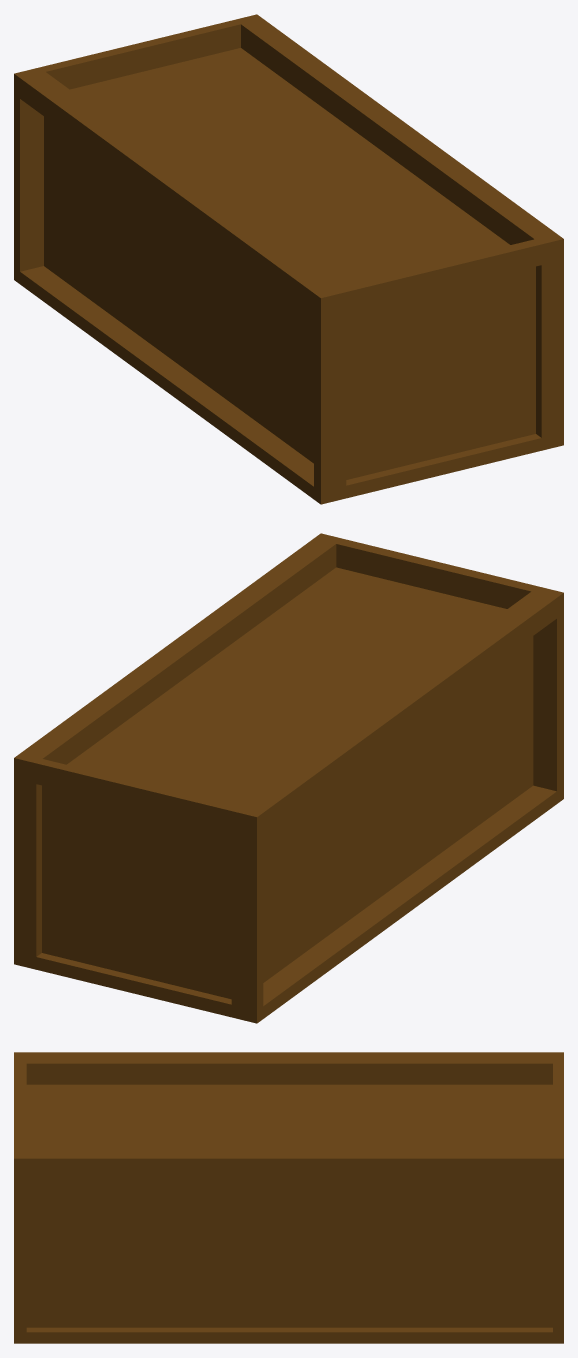
File: Caja3.FBX
3 renders of one model, top to bottom at view 1: azimuth 30°, elevation 25°; view 2: azimuth 150°, elevation 25°; view 3: azimuth 270°, elevation 25°, orthographic. The views are drawn at different scales.
Visible parts, largest first — view 1: G_Caja3; view 2: G_Caja3; view 3: G_Caja3.
Part boxes in pixels (x1=…): G_Caja3: x1=14, y1=14, x2=563, y2=504; G_Caja3: x1=14, y1=533, x2=563, y2=1023; G_Caja3: x1=14, y1=1052, x2=563, y2=1343.
Bounding box in the file's own units: 7.31 × 5.93 × 15.99.
